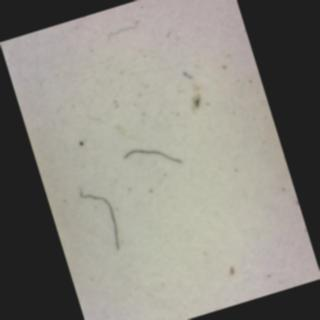Microplastic: (73, 172, 140, 256), (113, 128, 191, 187)
